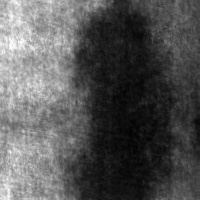patches: (75, 12, 169, 199)
